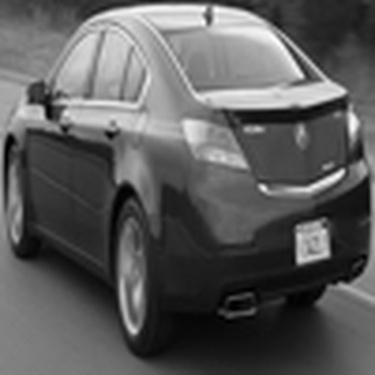car: (6, 5, 371, 372)
